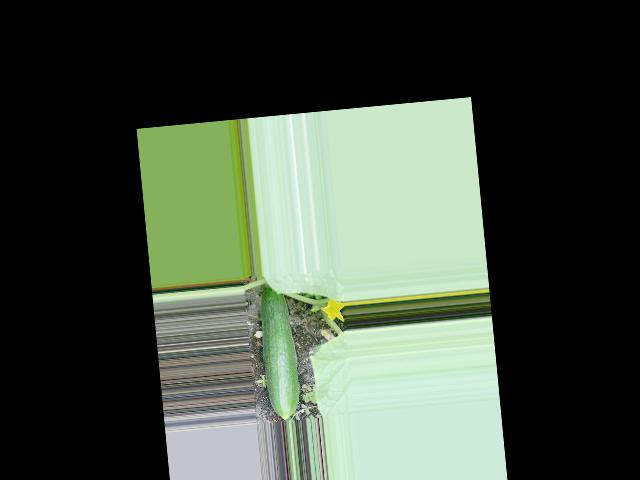cucumber: (256, 285, 302, 422)
